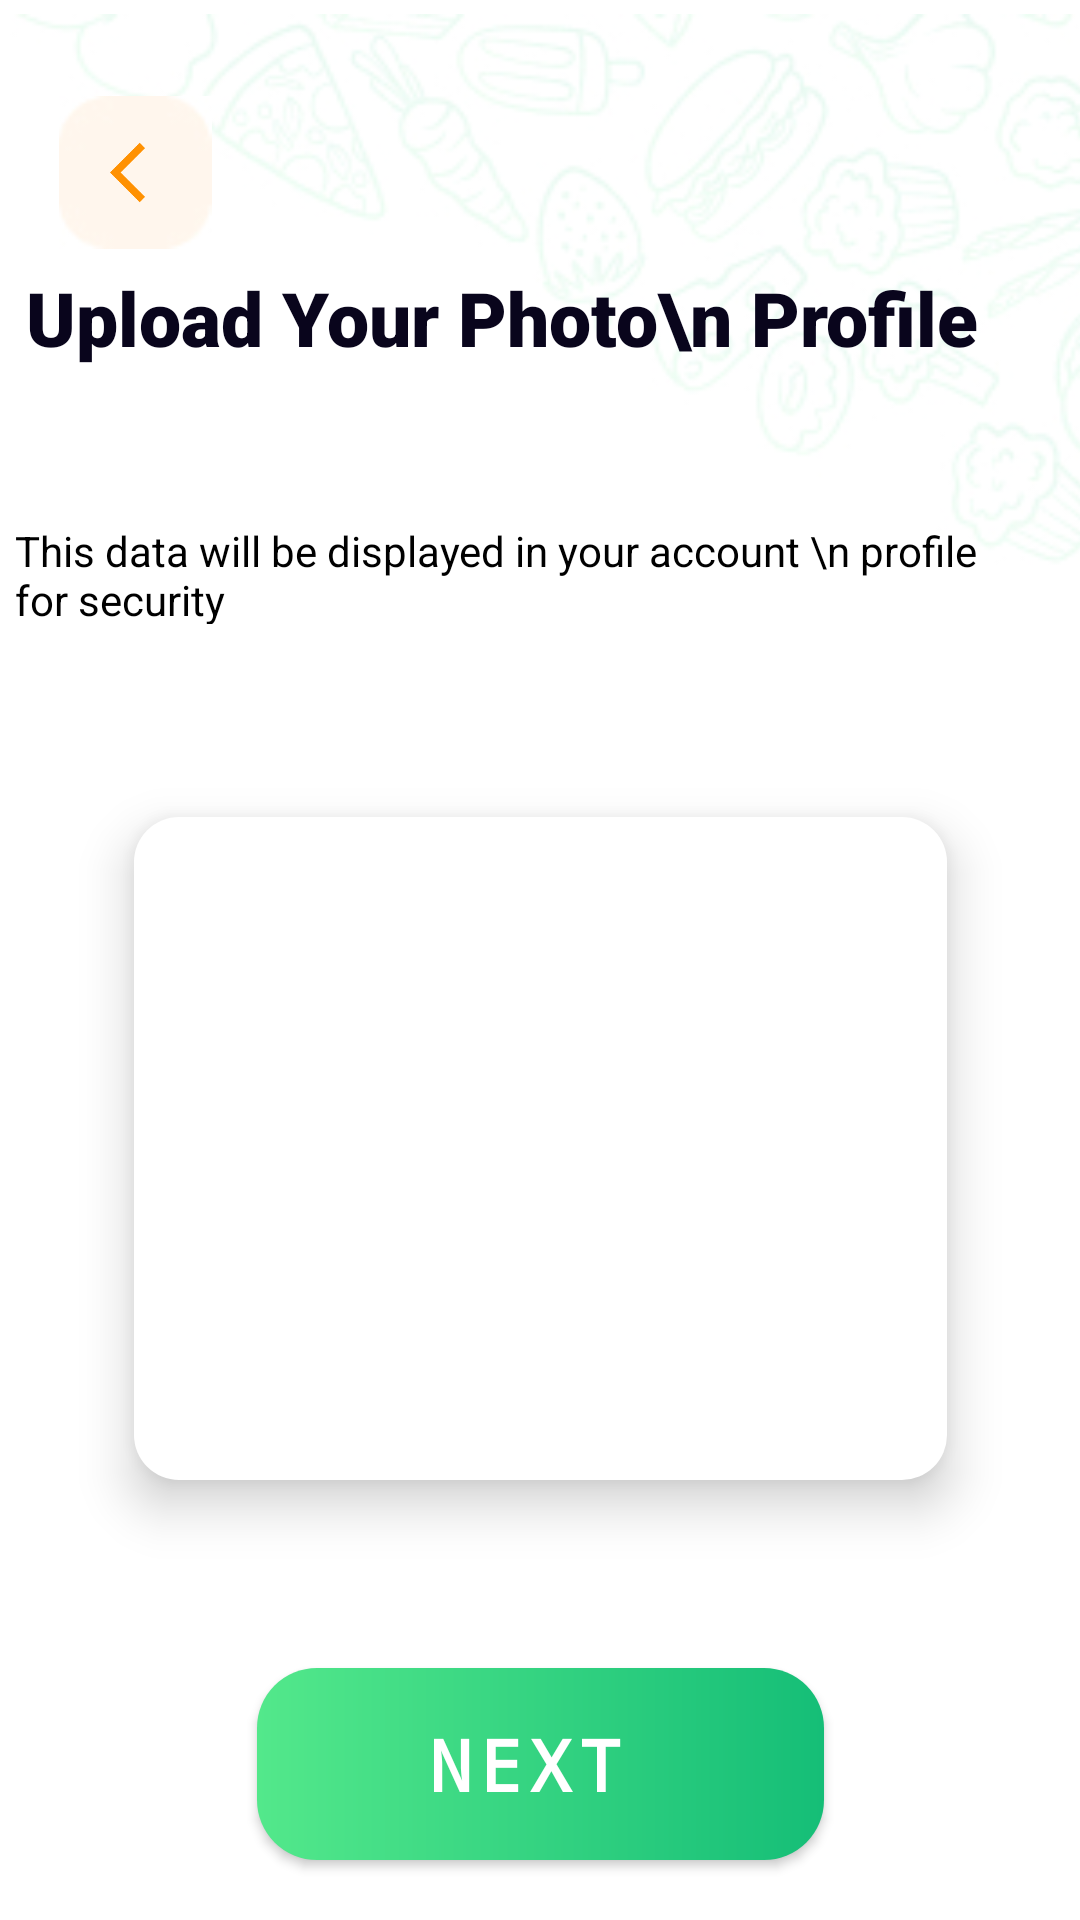

Icons on this 1080*1920 Android screen, each with its box as (x1, y1, x2, y2):
arrow back: (110, 143, 145, 202)
